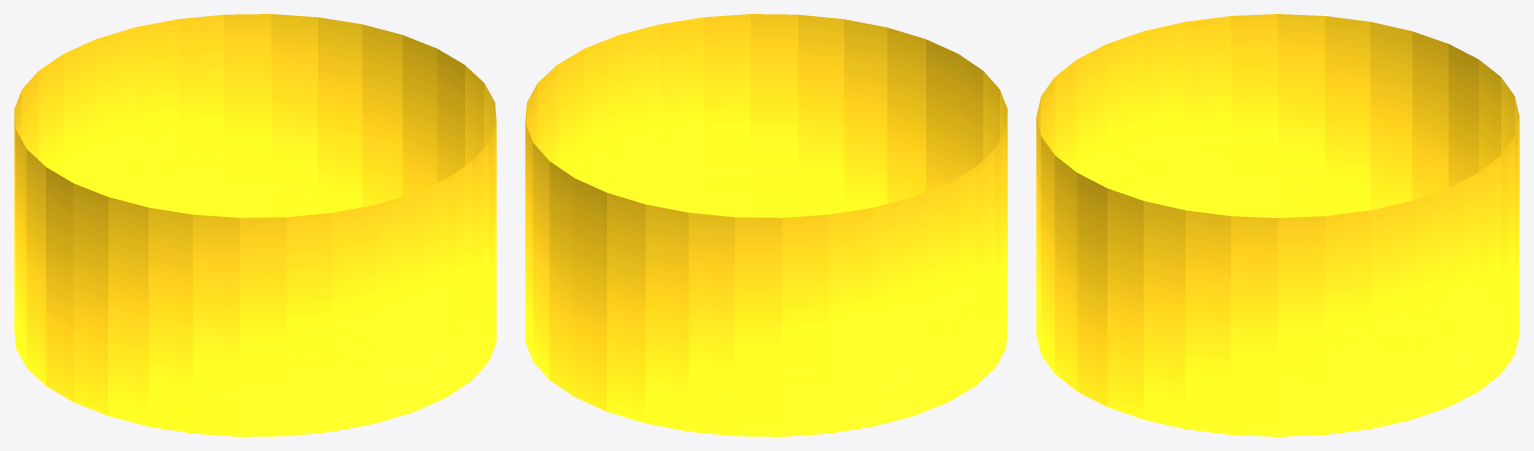
Rendered from lb_beam_2.glb.
3 views of the same model, side by side, from view 1: azimuth 30°, elevation 25°; view 2: azimuth 150°, elevation 25°; view 3: azimuth 270°, elevation 25° (orthographic).
Visible parts, largest first — view 1: lb_beam_2; view 2: lb_beam_2; view 3: lb_beam_2.
Part boxes in pixels (x1=…): lb_beam_2: x1=14, y1=14, x2=496, y2=436; lb_beam_2: x1=525, y1=14, x2=1007, y2=436; lb_beam_2: x1=1036, y1=14, x2=1519, y2=436.
Size of the model in its own units: 2 by 1 by 2.
Materials: 1 (1 with a texture image).
